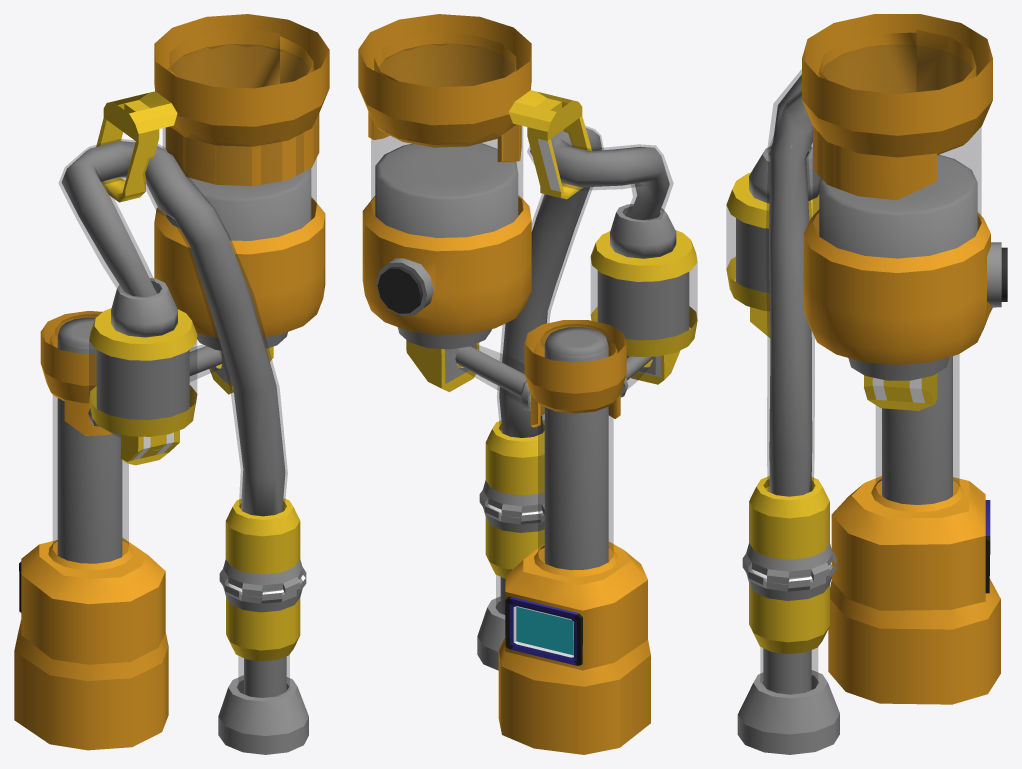
The model's file is Pump1.FBX.
3 renders of one model, left to right at view 1: azimuth 30°, elevation 25°; view 2: azimuth 150°, elevation 25°; view 3: azimuth 270°, elevation 25°, orthographic. The views are drawn at different scales.
Parts seen in each view (by area): view 1: Pump02, Pump01, Pump11, Pump04, Pump07, Pump03, Pump23, Pump22, Pump05, Pump14, Pump15, Pump19 (+10 smaller); view 2: Pump01, Pump02, Pump11, Pump04, Pump07, Pump23, Pump22, Pump15, Pump03, Pump17, Pump14, Pump05 (+10 smaller); view 3: Pump01, Pump02, Pump11, Pump04, Pump07, Pump15, Pump23, Pump05, Pump22, Pump19, Pump06, Pump03 (+7 smaller).
Part boxes in pixels (bbox=[...]): Pump02: bbox=[14, 537, 168, 750]; Pump01: bbox=[154, 44, 325, 338]; Pump11: bbox=[154, 14, 329, 186]; Pump04: bbox=[59, 139, 287, 515]; Pump07: bbox=[61, 141, 285, 516]; Pump03: bbox=[89, 308, 197, 436]; Pump23: bbox=[48, 395, 133, 570]; Pump22: bbox=[57, 317, 122, 563]; Pump05: bbox=[219, 498, 306, 597]; Pump14: bbox=[96, 349, 189, 419]; Pump15: bbox=[166, 168, 311, 240]; Pump19: bbox=[218, 675, 308, 754]; Pump01: bbox=[362, 44, 531, 334]; Pump02: bbox=[498, 541, 650, 754]; Pump11: bbox=[358, 14, 531, 162]; Pump04: bbox=[497, 126, 673, 437]; Pump07: bbox=[499, 128, 669, 437]; Pump23: bbox=[534, 403, 617, 576]; Pump22: bbox=[544, 327, 608, 570]; Pump15: bbox=[375, 143, 518, 237]; Pump03: bbox=[590, 230, 697, 356]; Pump17: bbox=[524, 320, 626, 427]; Pump14: bbox=[597, 270, 689, 340]; Pump05: bbox=[479, 420, 544, 517]; Pump01: bbox=[803, 45, 1007, 364]; Pump02: bbox=[828, 476, 1000, 704]; Pump11: bbox=[802, 14, 992, 200]; Pump04: bbox=[766, 69, 814, 495]; Pump07: bbox=[769, 74, 812, 496]; Pump15: bbox=[819, 154, 977, 258]; Pump23: bbox=[871, 354, 963, 512]; Pump05: bbox=[742, 476, 836, 584]; Pump22: bbox=[882, 356, 952, 504]; Pump19: bbox=[737, 670, 839, 754]; Pump06: bbox=[742, 563, 836, 653]; Pump03: bbox=[726, 172, 819, 311].
Size of the model in its own units: 61.28 by 135 by 49.42.
